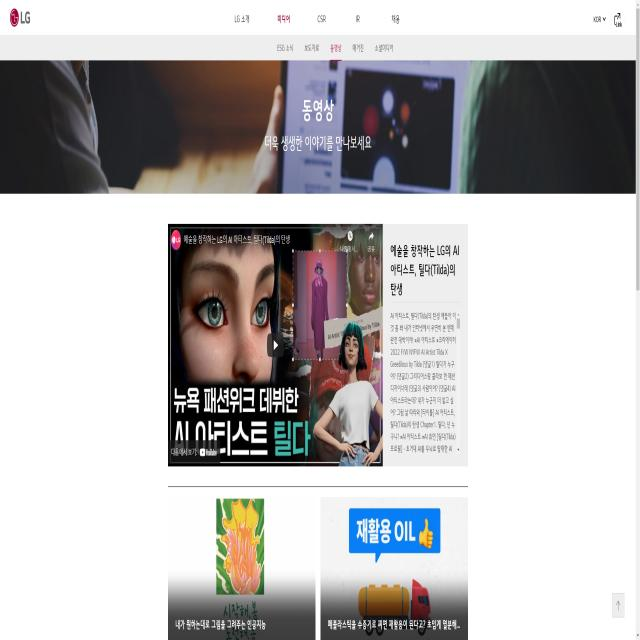tab-bar: (231, 9, 406, 31), (278, 36, 398, 57)
